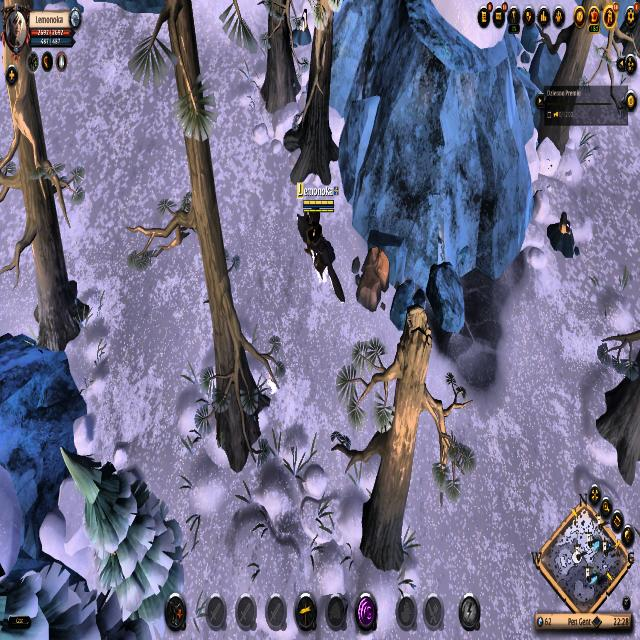rock tier 2: (351, 244, 391, 316), (546, 208, 582, 264)
